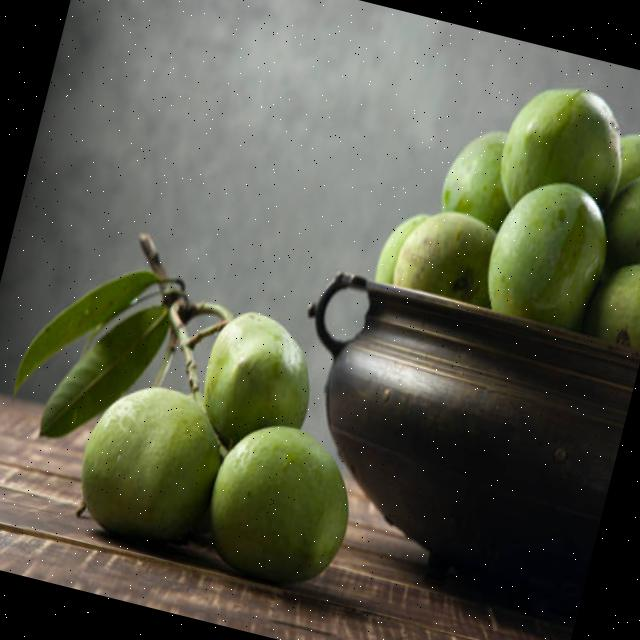mango: (209, 425, 347, 582), (81, 387, 220, 539), (487, 182, 606, 329), (500, 88, 621, 208), (203, 311, 308, 446), (392, 211, 496, 307), (441, 131, 509, 230), (584, 265, 640, 349), (605, 177, 640, 269)
